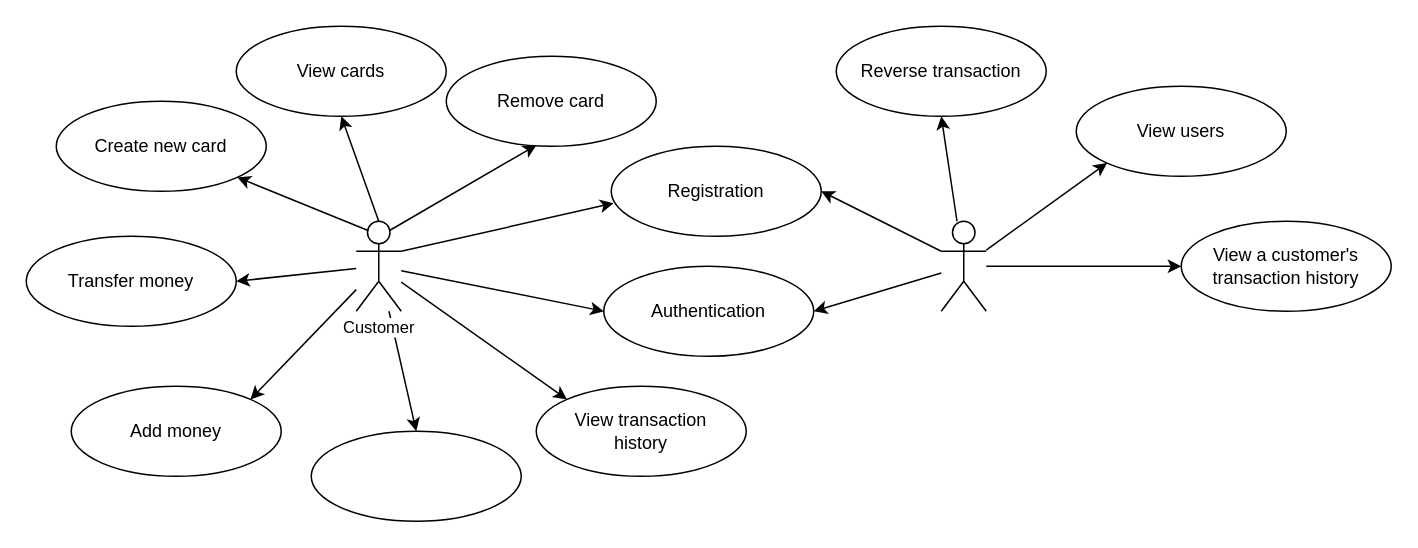
This 1418x548 diagram has some shape labels left out. Here are the shapes that lost their labels. From the top down, the box of each, then its label:
(940, 220, 986, 311): Administrator
(310, 430, 521, 521): Check balance
